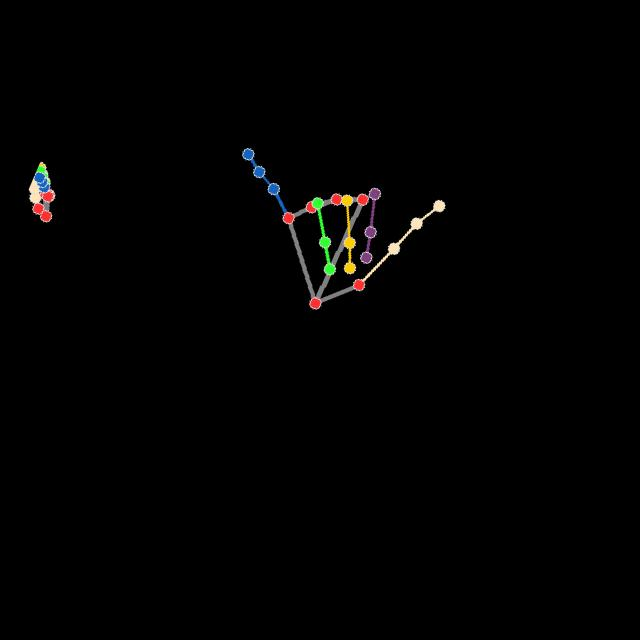skr: (242, 145, 449, 311)
